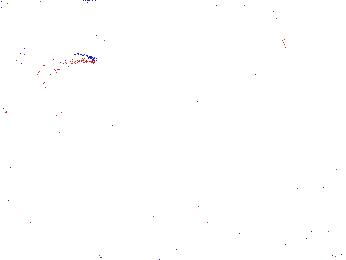moon jellyfish: (213, 43, 299, 117), (218, 13, 290, 91), (26, 54, 100, 127), (267, 15, 346, 66), (1, 11, 24, 113)
